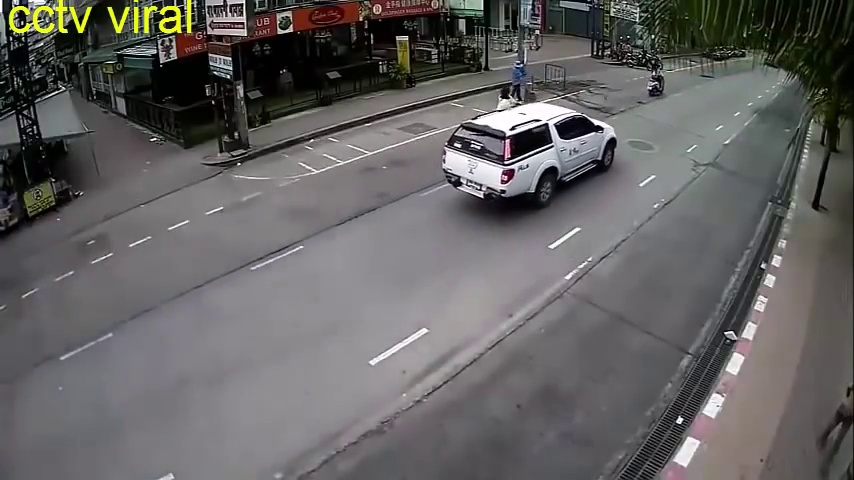car: (448, 102, 615, 206)
motorbike: (648, 68, 666, 101)
